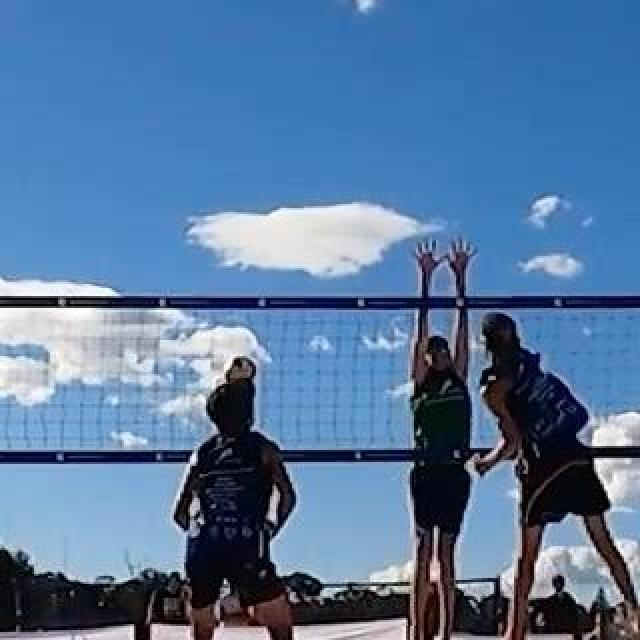volleyball: (226, 356, 254, 382)
